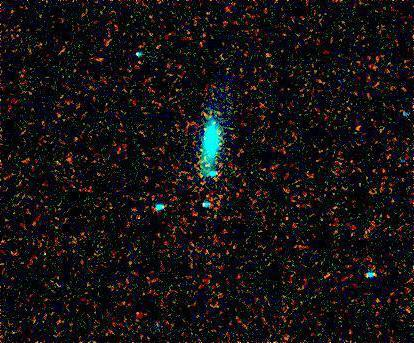star: (187, 135, 217, 165)
